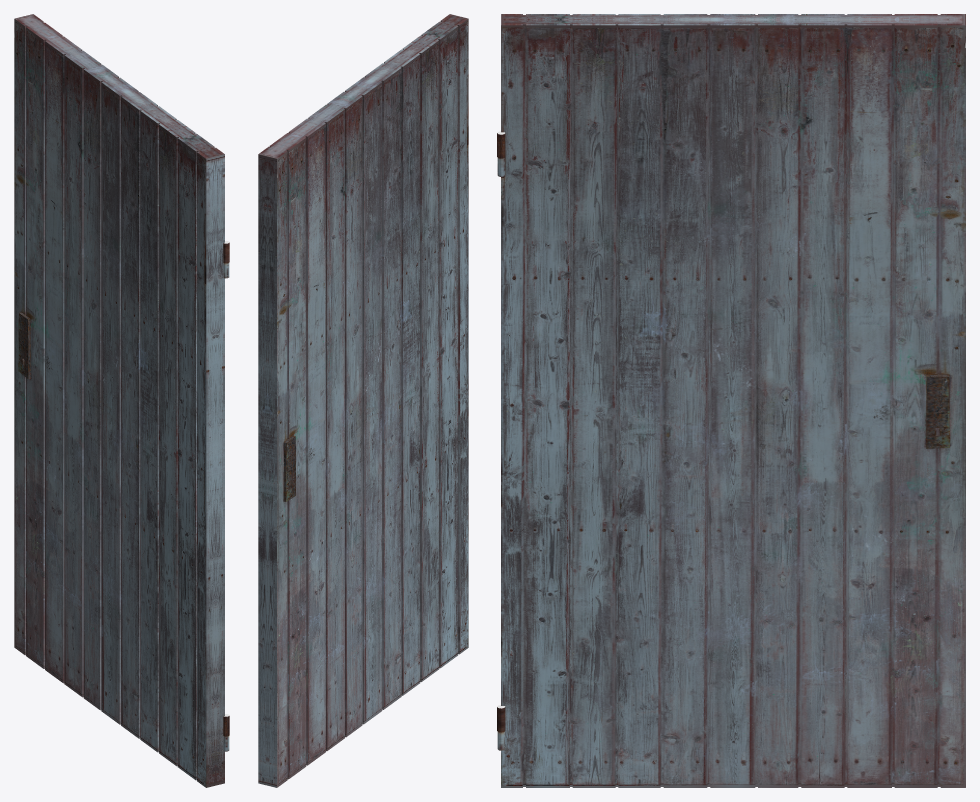
The model's file is door.fbx.
3 renders of one model, left to right at view 1: azimuth 30°, elevation 25°; view 2: azimuth 150°, elevation 25°; view 3: azimuth 270°, elevation 25°, orthographic. The views are drawn at different scales.
Parts seen in each view (by area): view 1: Cube; view 2: Cube; view 3: Cube.
Part boxes in pixels (x1,y1,x2,y2): Cube: [14, 14, 229, 787]; Cube: [258, 14, 468, 787]; Cube: [497, 14, 965, 787].
Size of the model in its own units: 31.53 by 732 by 408.
1 material, 1 textured.
